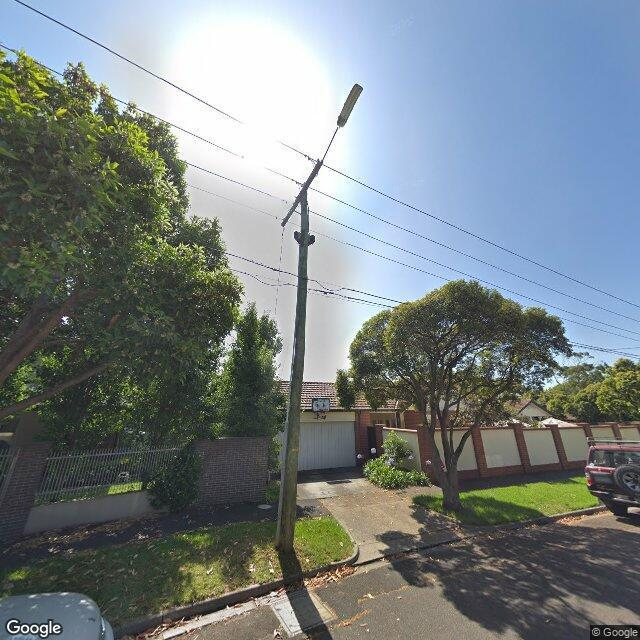crossarm: (281, 161, 323, 227)
streetlight: (322, 83, 364, 163)
timber-pole: (278, 192, 310, 553)
